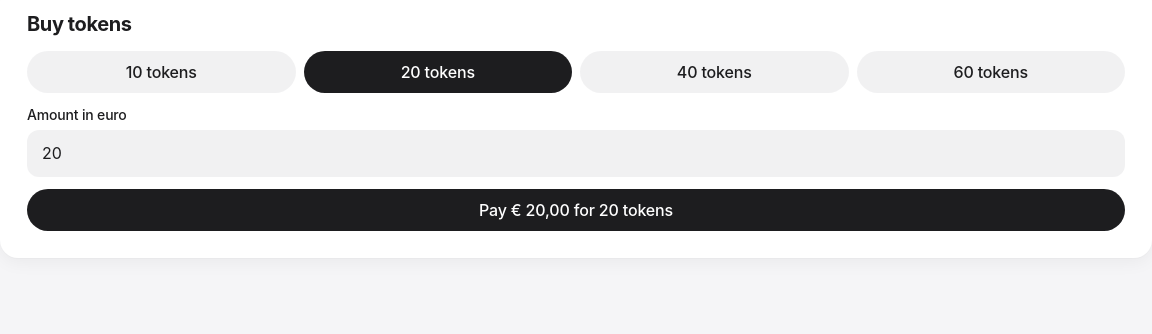
Scenario: TopUpForm › refuses an amount outside the limits without bothering the server
Step 1. Replace the text in the field labelled "Amount in euro" with "2" → (576, 154), box [27, 130, 1125, 178]
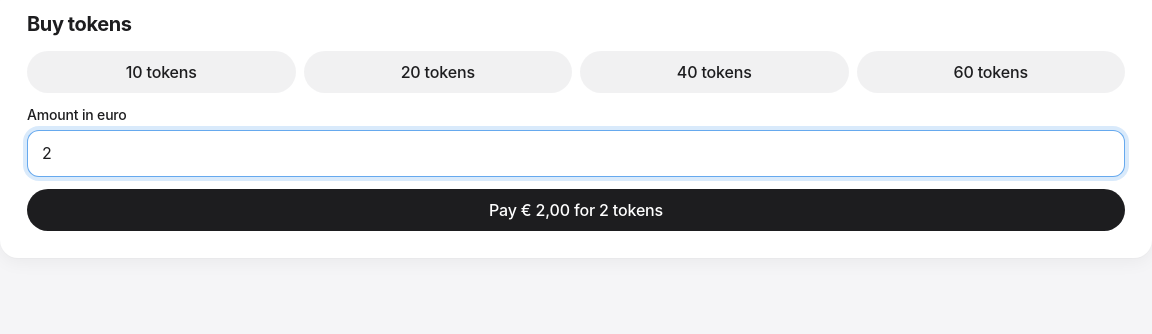
Step 2. Click the button "Pay € 2,00 for 2 tokens" → click(576, 210), box [27, 190, 1125, 232]
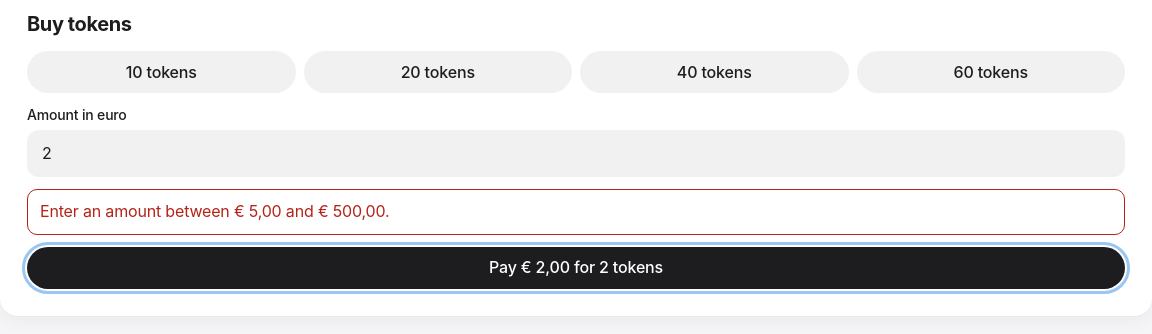
Now the message shows "between € 5,00 and € 500,00", box [40, 202, 389, 222]
